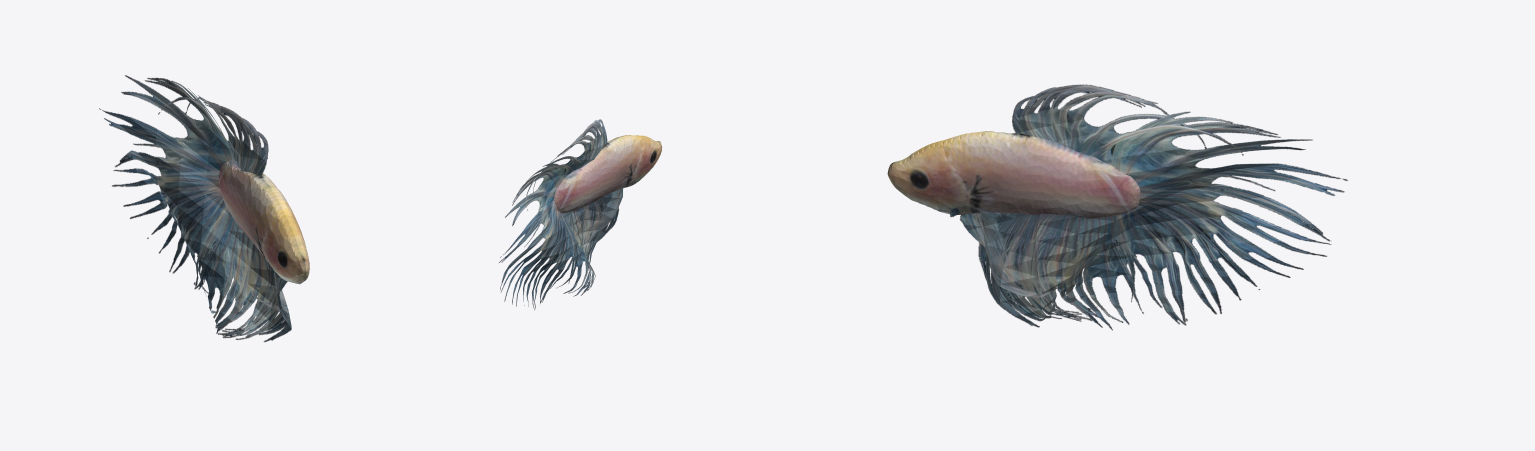
Rendered from asset.gltf.
3 renders of one model, left to right at view 1: azimuth 30°, elevation 25°; view 2: azimuth 150°, elevation 25°; view 3: azimuth 270°, elevation 25°, orthographic. The views are drawn at different scales.
Visible parts, largest first — view 1: Object_2, Object_3; view 2: Object_2, Object_3; view 3: Object_2, Object_3.
Boxes of the visible parts, x1,y1,x2,y2 form: Object_2: (99, 75, 291, 341); Object_3: (219, 159, 309, 284); Object_2: (499, 119, 623, 310); Object_3: (554, 135, 662, 213); Object_2: (949, 84, 1347, 330); Object_3: (887, 131, 1140, 218).
Bounding box in the file's own units: 20.92 × 136 × 223.
2 materials, 2 textured.
